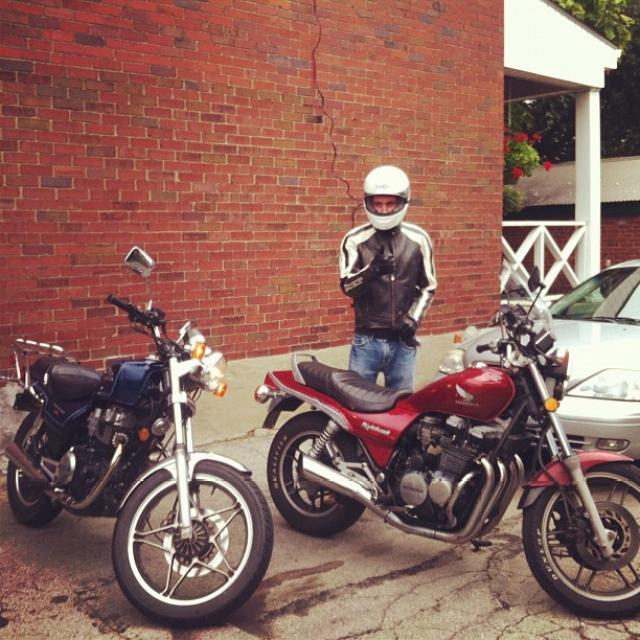motor: (259, 268, 639, 620), (0, 245, 276, 627)
